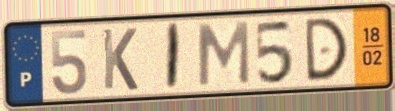5: (253, 17, 296, 85), (48, 27, 89, 96)
D: (302, 15, 350, 84)
I: (164, 21, 183, 93)
K: (100, 26, 141, 93)
M: (196, 19, 252, 88)
